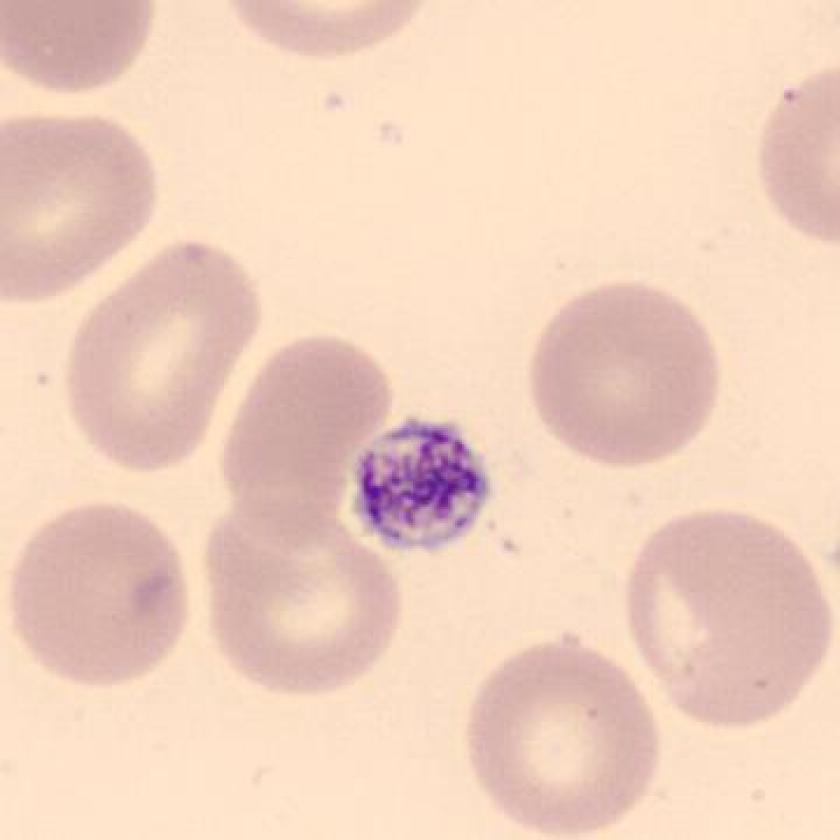platelets: (347, 413, 494, 561)
